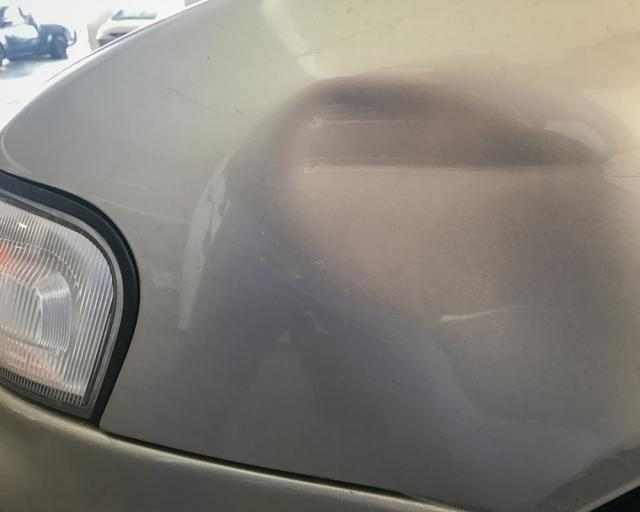dent: (260, 74, 640, 447)
